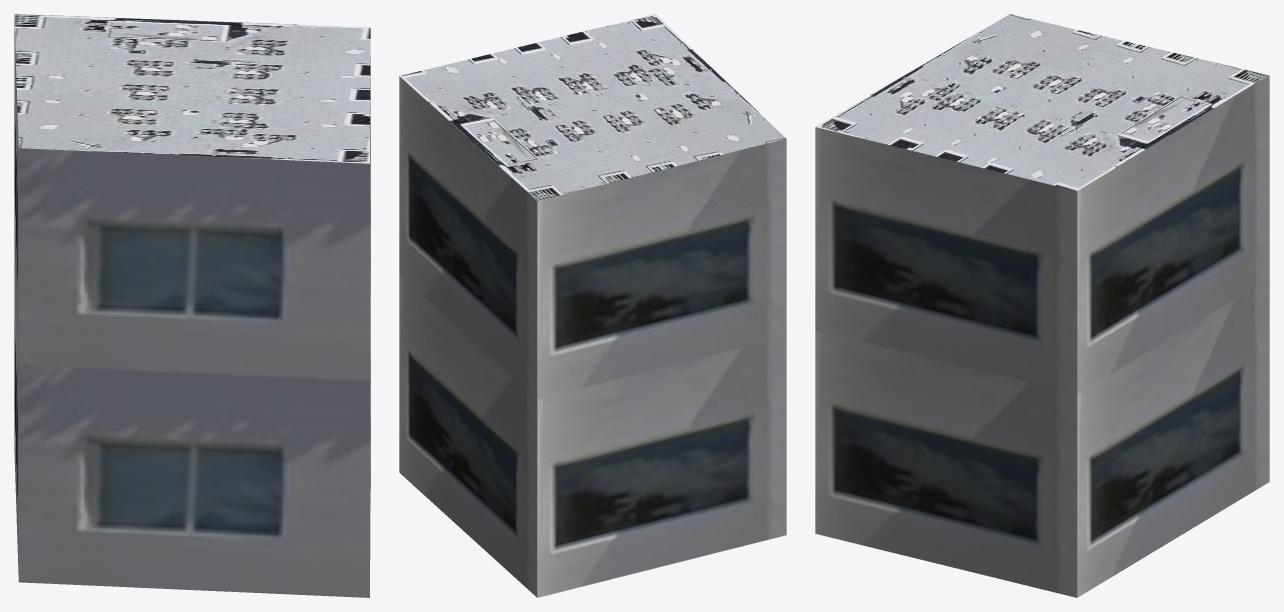
File: ResTex__563.fbx
The picture shows the model from 3 angles, left to right: view 1: azimuth 30°, elevation 25°; view 2: azimuth 150°, elevation 25°; view 3: azimuth 270°, elevation 25°; orthographic projection. The views are drawn at different scales.
Parts seen in each view (by area): view 1: CityEngineMaterial_10_m, CityEngineMaterial_8_m; view 2: CityEngineMaterial_10_m, CityEngineMaterial_8_m; view 3: CityEngineMaterial_10_m, CityEngineMaterial_8_m.
Part boxes in pixels (x1,y1,x2,y2): CityEngineMaterial_10_m: [14, 18, 370, 597]; CityEngineMaterial_8_m: [14, 14, 370, 163]; CityEngineMaterial_10_m: [399, 76, 786, 597]; CityEngineMaterial_8_m: [400, 14, 785, 201]; CityEngineMaterial_10_m: [815, 75, 1269, 597]; CityEngineMaterial_8_m: [816, 14, 1268, 190].
Bounding box in the file's own units: 5.61 × 6 × 6.07.
Materials: 2 (2 with a texture image).
